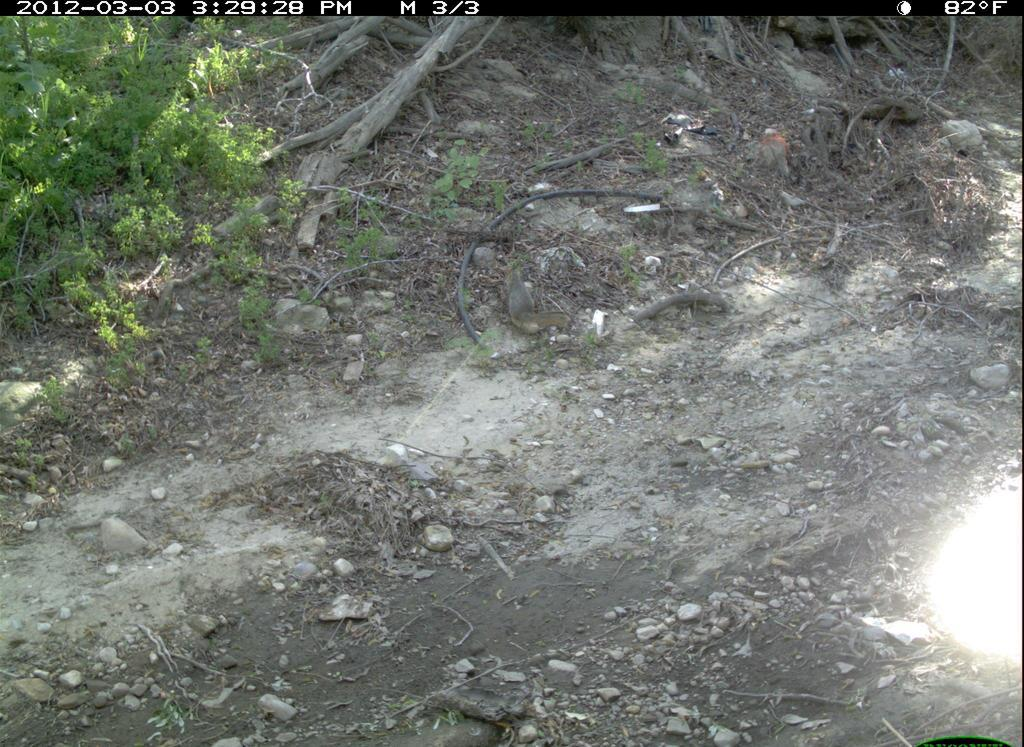squirrel: (498, 260, 584, 342)
